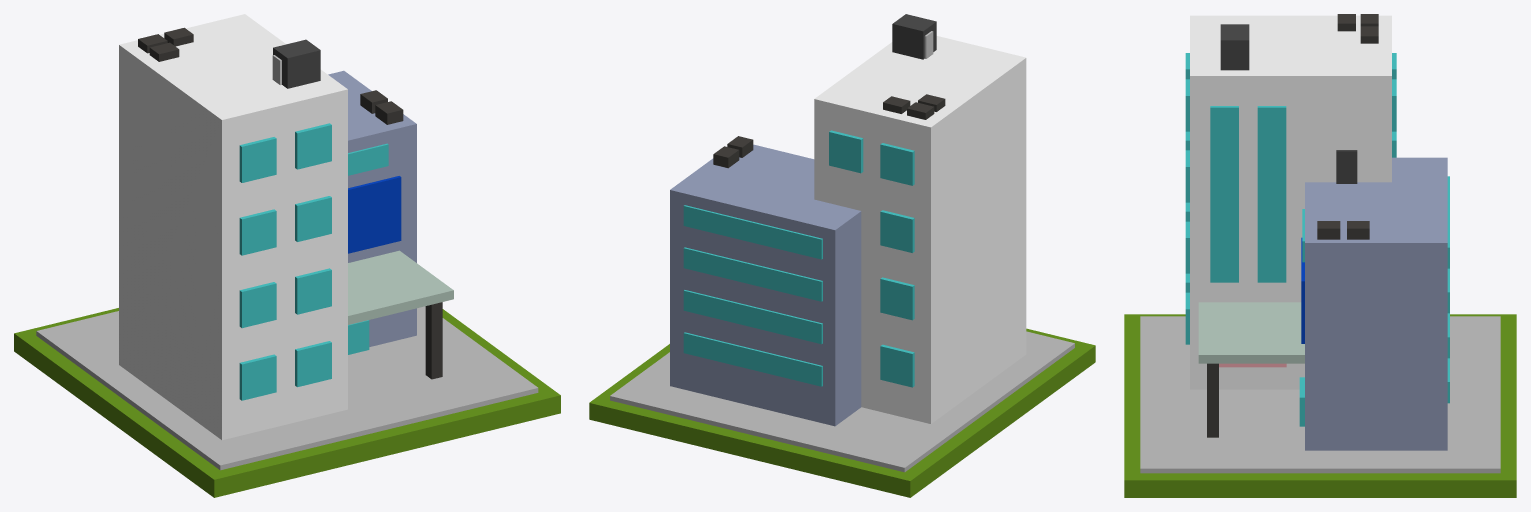
The model's file is Office_3.fbx.
The picture shows the model from 3 angles, left to right: view 1: azimuth 30°, elevation 25°; view 2: azimuth 150°, elevation 25°; view 3: azimuth 270°, elevation 25°; orthographic projection. The views are drawn at different scales.
Parts seen in each view (by area): view 1: Building, Ground_Foundation, Cube, Platform, Screen_2, Service, Window__2_, Window__1_, Window__3_, Window__4_, Window__8_, Window__6_ (+5 smaller); view 2: Building, Ground_Foundation, Cube, Window__11__1, Window__13_, Window__10__1, Window__12_, Service, Window__1__1, Window__3__1, Window__4__1, Window__2__1 (+1 smaller); view 3: Building, Ground_Foundation, Cube, Platform, Window__11_, Window__10_, Service, Stand, Door, AC__1_, AC__2_.
Boxes of the visible parts, x1,y1,x2,y2 form: Building: (119,14,416,440); Ground_Foundation: (36,306,538,470); Cube: (14,308,560,497); Platform: (348,250,453,324); Screen_2: (348,176,401,253); Service: (273,39,320,88); Window__2_: (239,282,276,328); Window__1_: (239,354,276,400); Window__3_: (239,209,276,255); Window__4_: (239,137,276,182); Window__8_: (295,123,331,169); Window__6_: (295,268,331,314); Building: (670,36,1026,426); Ground_Foundation: (610,331,1074,472); Cube: (589,328,1095,497); Window__11__1: (683,247,822,301); Window__13_: (683,332,822,386); Window__10__1: (683,205,822,259); Window__12_: (683,290,822,344); Service: (892,14,936,59); Window__1__1: (880,344,914,387); Window__3__1: (880,210,914,252); Window__4__1: (880,143,914,185); Window__2__1: (880,277,914,320); Building: (1190,15,1447,450); Ground_Foundation: (1140,316,1500,473); Cube: (1124,314,1516,497); Platform: (1198,302,1304,363); Window__11_: (1257,106,1286,282); Window__10_: (1210,106,1238,282); Service: (1220,24,1249,70); Stand: (1207,363,1218,437); Door: (1336,150,1357,183); AC__1_: (1317,221,1340,239); AC__2_: (1347,221,1369,239).
Size of the model in its own units: 100 by 103 by 100.
